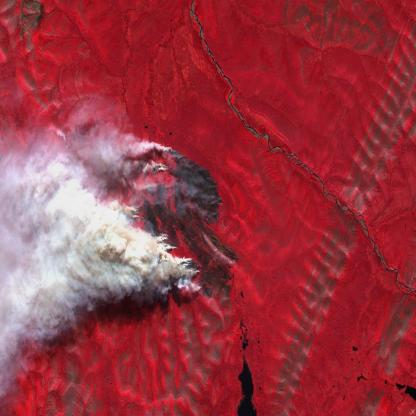fire: (115, 145, 224, 288)
